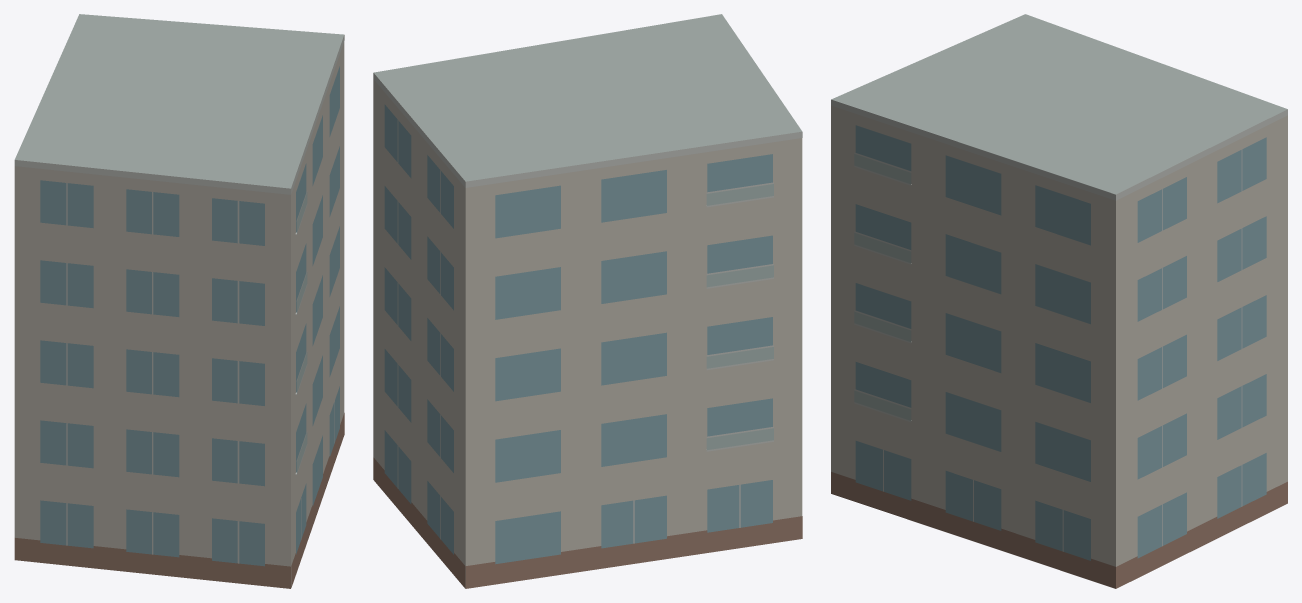
The model's file is survey-upis-32946318.glb.
3 views of the same model, side by side, from view 1: azimuth 30°, elevation 25°; view 2: azimuth 150°, elevation 25°; view 3: azimuth 270°, elevation 25° (orthographic). The views are drawn at different scales.
Parts seen in each view (by area): view 1: survey-upis-32946318.tmp; view 2: survey-upis-32946318.tmp; view 3: survey-upis-32946318.tmp.
Part boxes in pixels (x1,y1,x2,y2): survey-upis-32946318.tmp: (14,14,344,588); survey-upis-32946318.tmp: (373,14,802,588); survey-upis-32946318.tmp: (831,14,1287,588).
Size of the model in its own units: 15.43 by 15.7 by 16.49.
